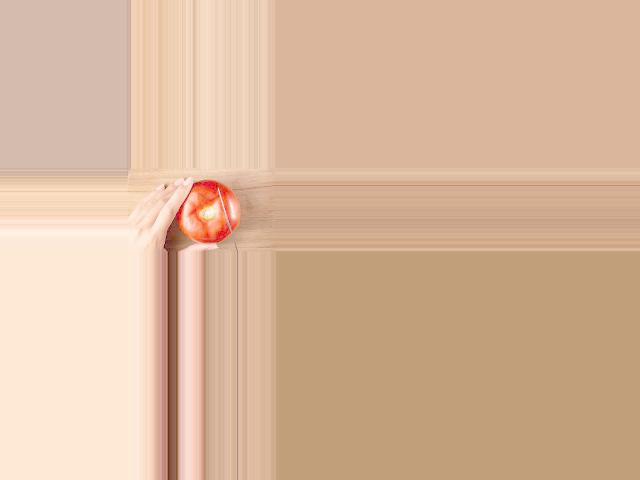tomato: (176, 180, 239, 243)
